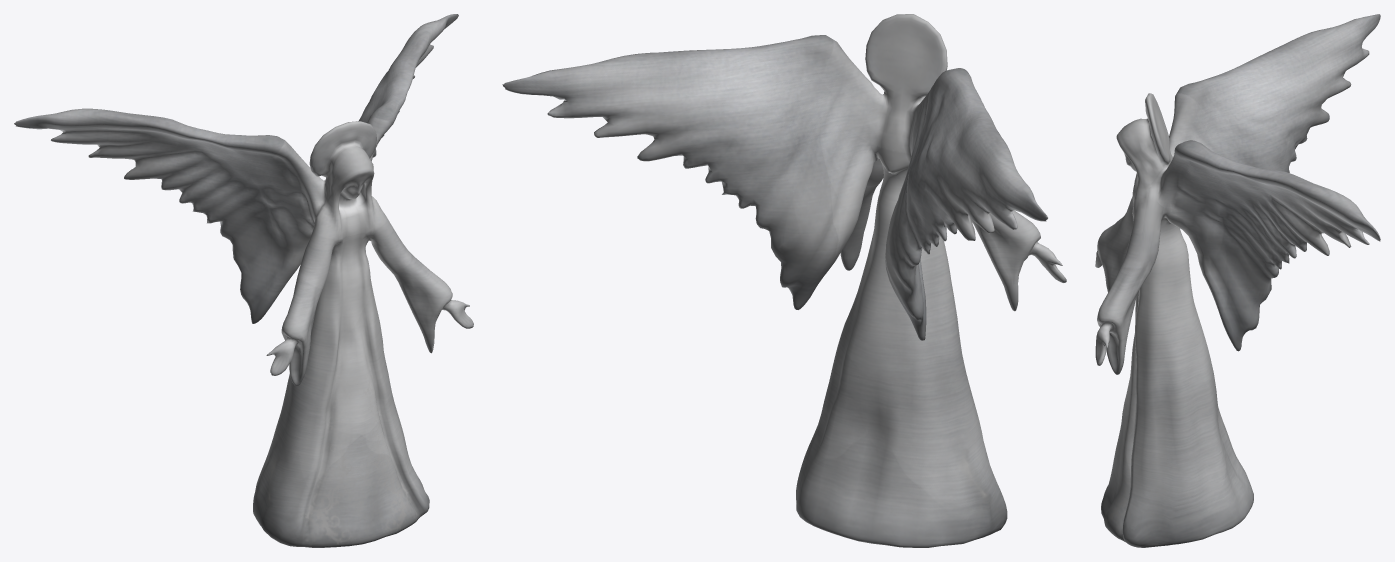
The model's file is angel.fbx.
3 views of the same model, side by side, from view 1: azimuth 30°, elevation 25°; view 2: azimuth 150°, elevation 25°; view 3: azimuth 270°, elevation 25° (orthographic). The views are drawn at different scales.
Parts seen in each view (by area): view 1: Group5651; view 2: Group5651; view 3: Group5651.
Boxes of the visible parts, <box> form: Group5651: <box>14,14,473,547</box>; Group5651: <box>502,14,1066,547</box>; Group5651: <box>1095,14,1380,547</box>.
Size of the model in its own units: 158 by 138 by 85.14.
